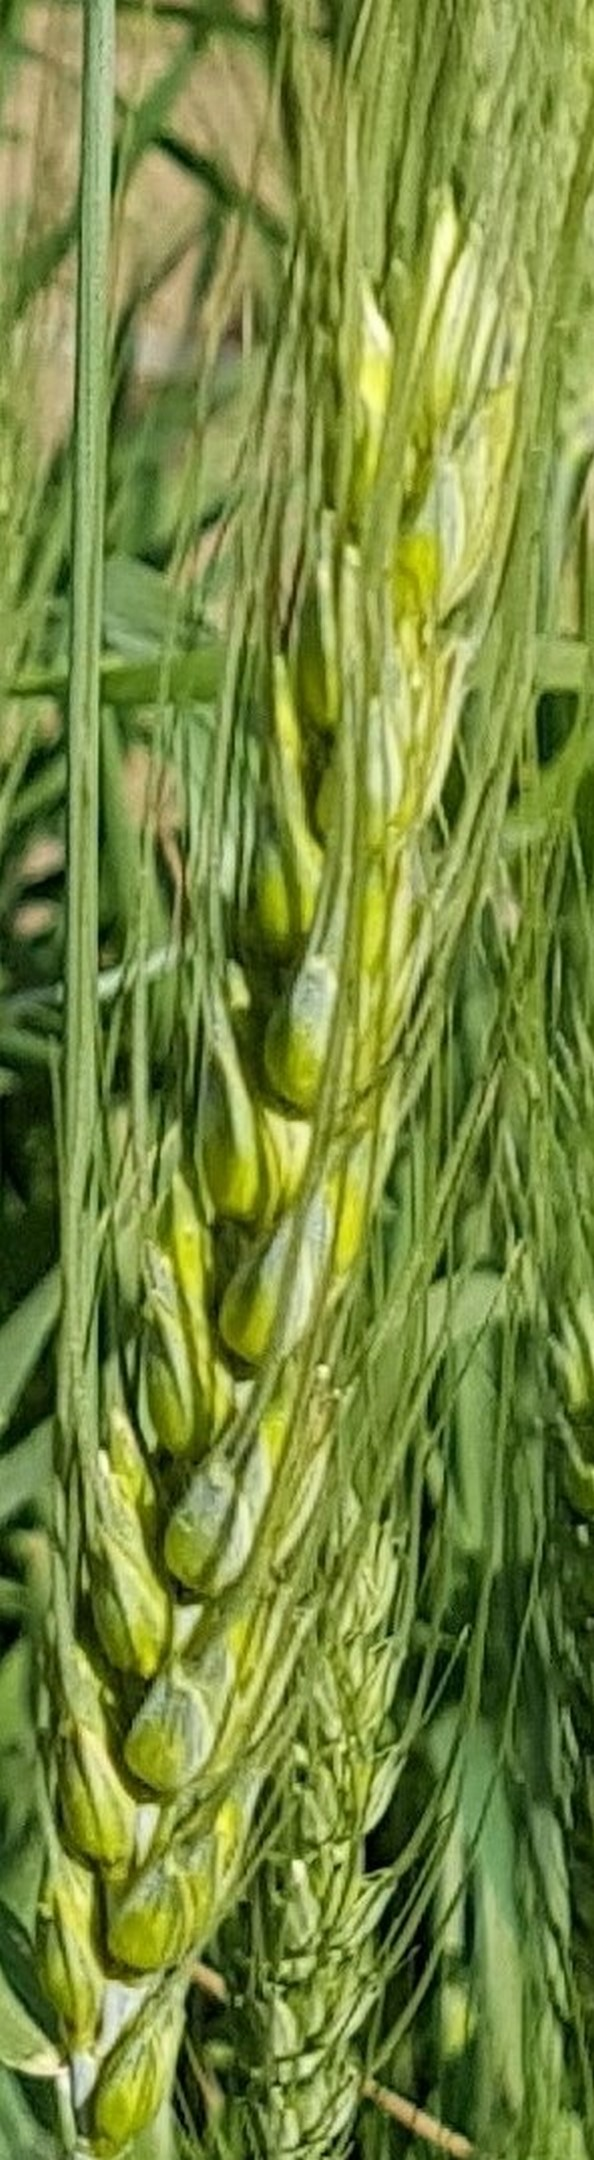Healthy Wheat: (54, 284, 591, 2004)
